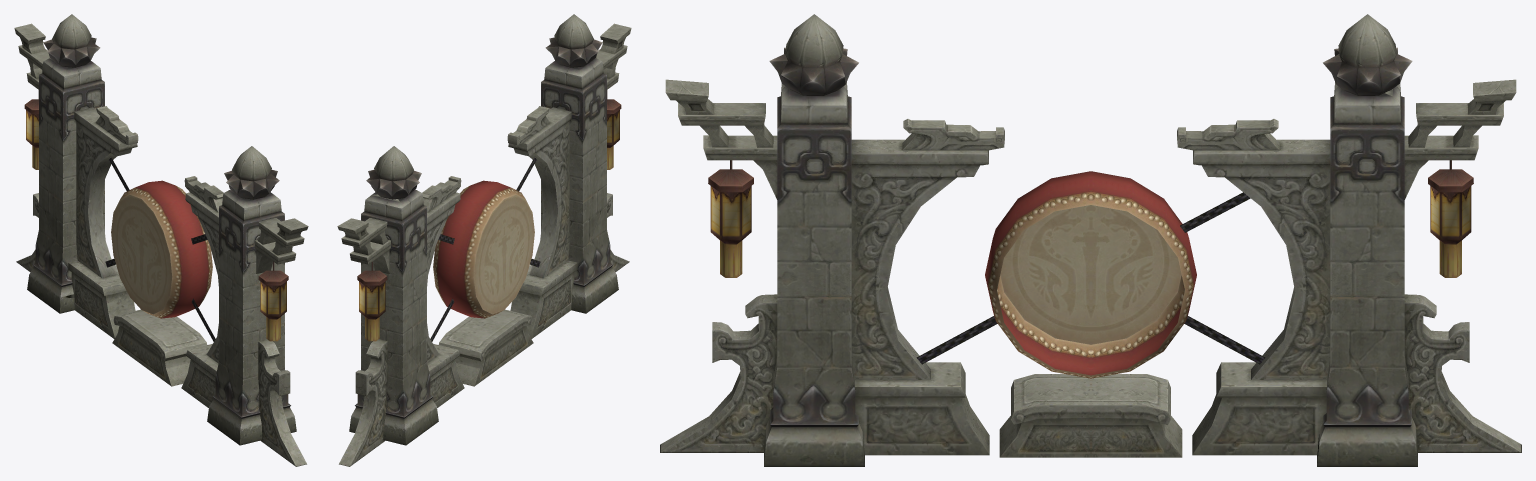
3 renders of one model, left to right at view 1: azimuth 30°, elevation 25°; view 2: azimuth 150°, elevation 25°; view 3: azimuth 270°, elevation 25°, orthographic. The views are drawn at different scales.
Parts seen in each view (by area): view 1: hs_gu01; view 2: hs_gu01; view 3: hs_gu01.
Boxes of the visible parts, x1=… form: hs_gu01: x1=14, y1=14, x2=308, y2=466; hs_gu01: x1=337, y1=14, x2=631, y2=466; hs_gu01: x1=660, y1=14, x2=1521, y2=466.
Bounding box in the file's own units: 1.54 × 7.35 × 13.19.
